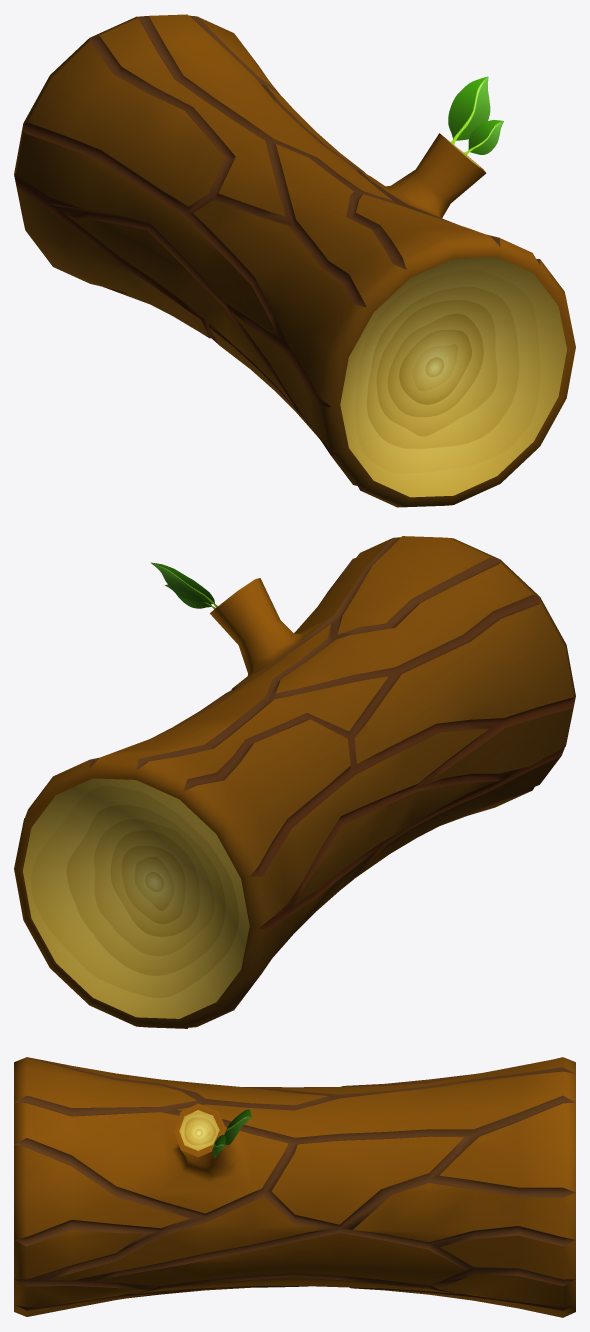
The model's file is Log_001.FBX.
The picture shows the model from 3 angles, top to bottom: view 1: azimuth 30°, elevation 25°; view 2: azimuth 150°, elevation 25°; view 3: azimuth 270°, elevation 25°; orthographic projection. The views are drawn at different scales.
Visible parts, largest first — view 1: Cylinder003, Plane003, Plane004; view 2: Cylinder003, Plane003; view 3: Cylinder003, Plane003.
Boxes of the visible parts, left/top/right/bottom form: Cylinder003: left=14, top=14, right=575, bottom=507; Plane003: left=448, top=76, right=490, bottom=144; Plane004: left=464, top=120, right=503, bottom=154; Cylinder003: left=14, top=536, right=575, bottom=1028; Plane003: left=150, top=562, right=217, bottom=607; Cylinder003: left=14, top=1057, right=575, bottom=1317; Plane003: left=224, top=1109, right=251, bottom=1144.
Bounding box in the file's own units: 59.72 × 56.2 × 105.
Materials: 2 (2 with a texture image).
